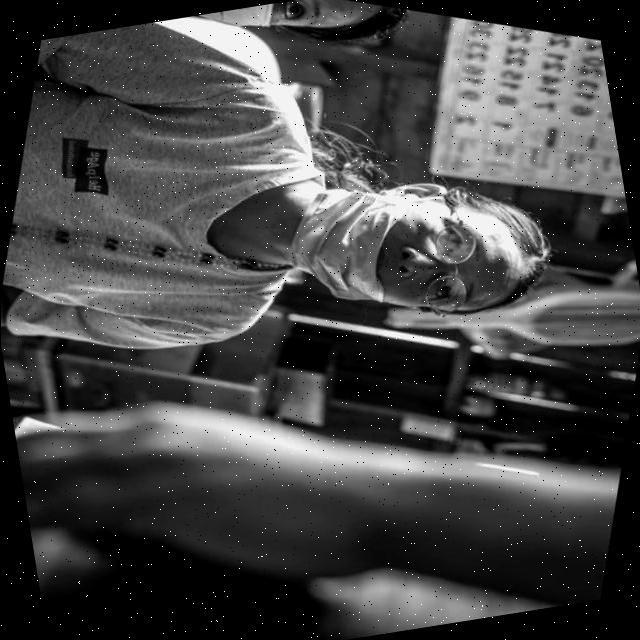no_gloves: (476, 203, 548, 315)
